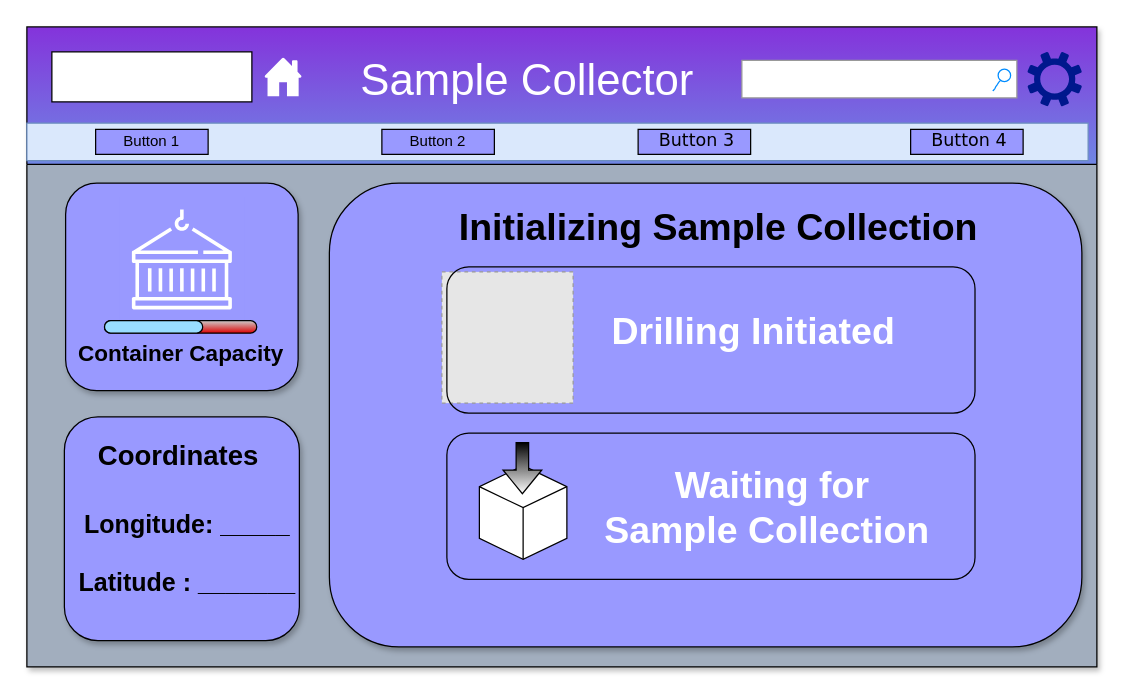
This 1126x698 diagram has some shape labels left out. Grey dashed boxes stand in for pictures. The centre of each missing label's shape, as x and y in pixels:
"LOGO" goes at point 151,76.
"Search" goes at point 879,78.
